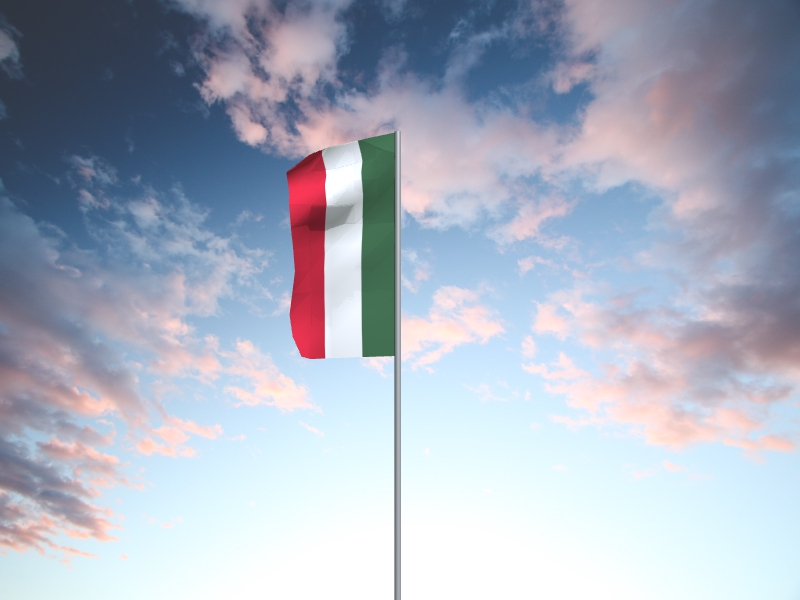hu: (287, 134, 395, 360)
